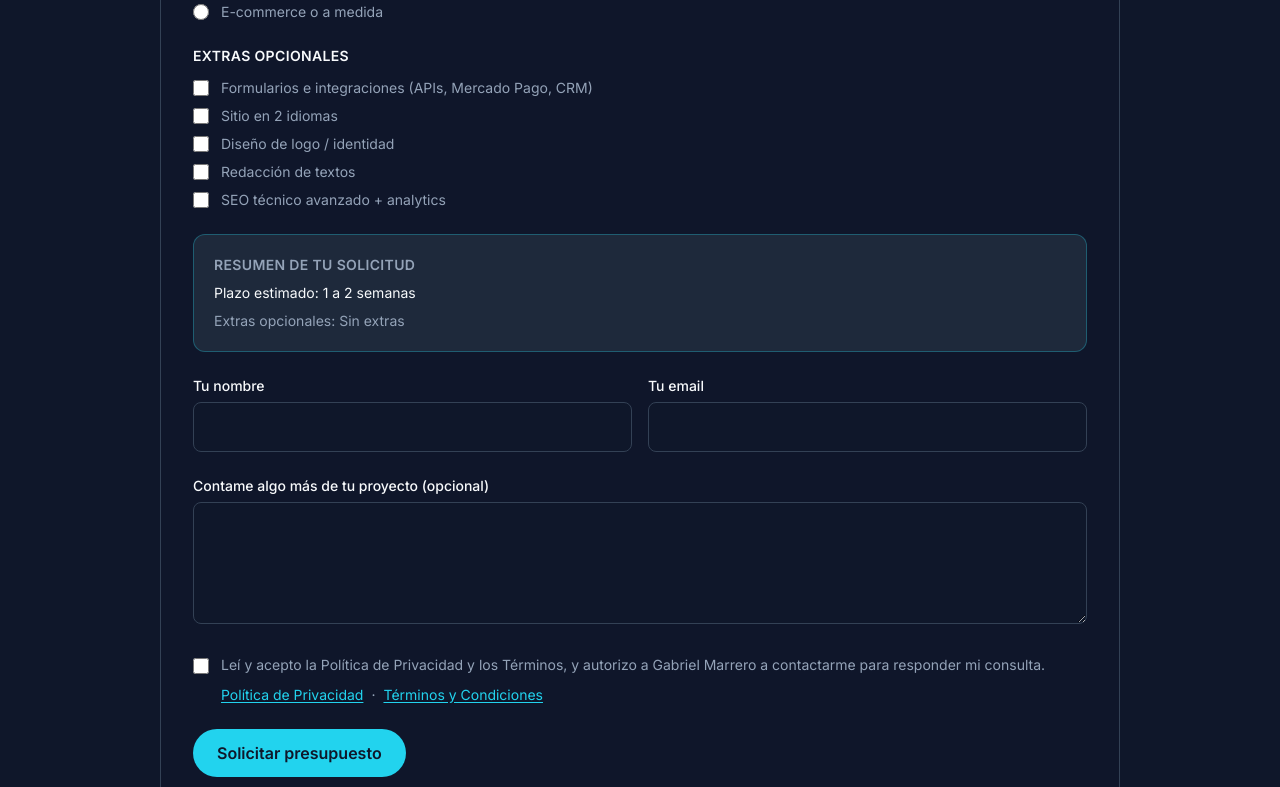
Test: Estimator › sends the quote request without any price fields
This screenshot has width=1280, height=787.
(page scrolled)
Type "Ana Pérez" into the field labelled "Tu nombre" at (412, 427), box [193,402,632,452]
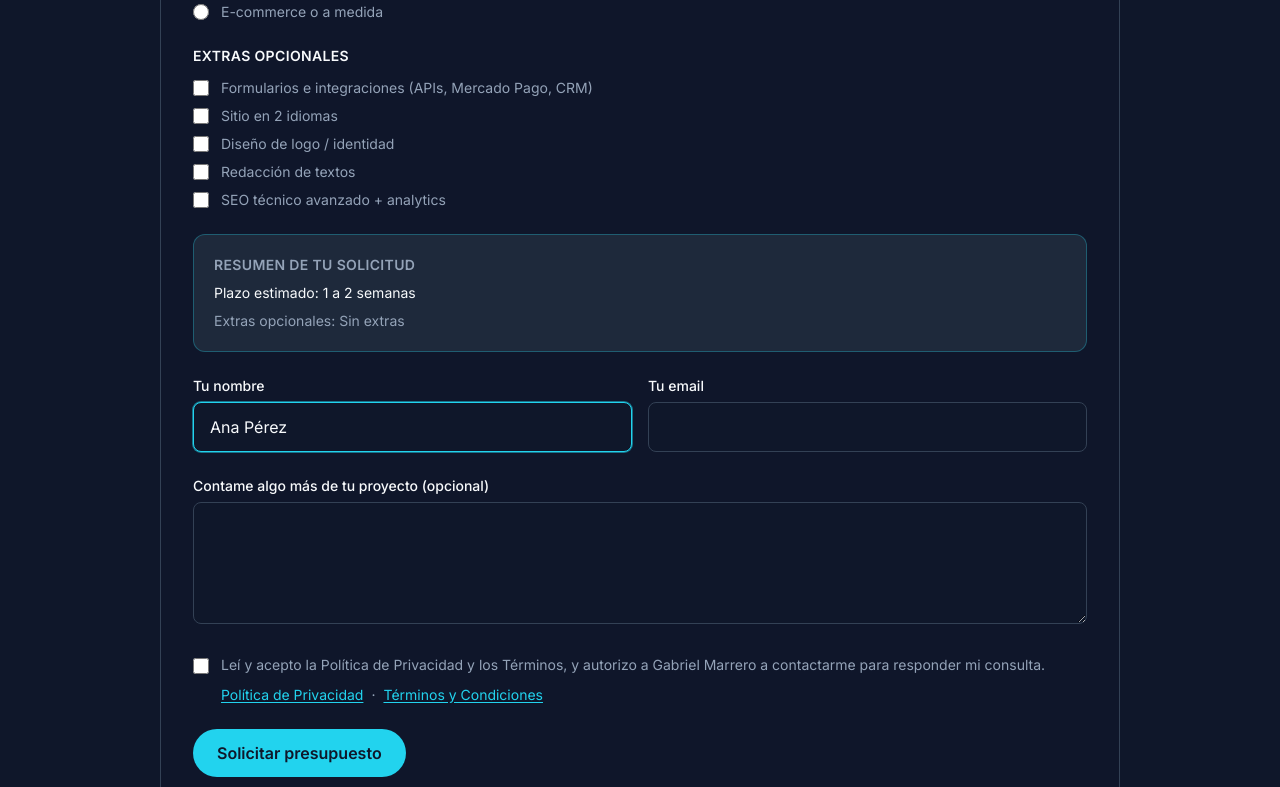
Type "ana@example.com" into the field labelled "Tu email" at (868, 427), box [648,402,1087,452]
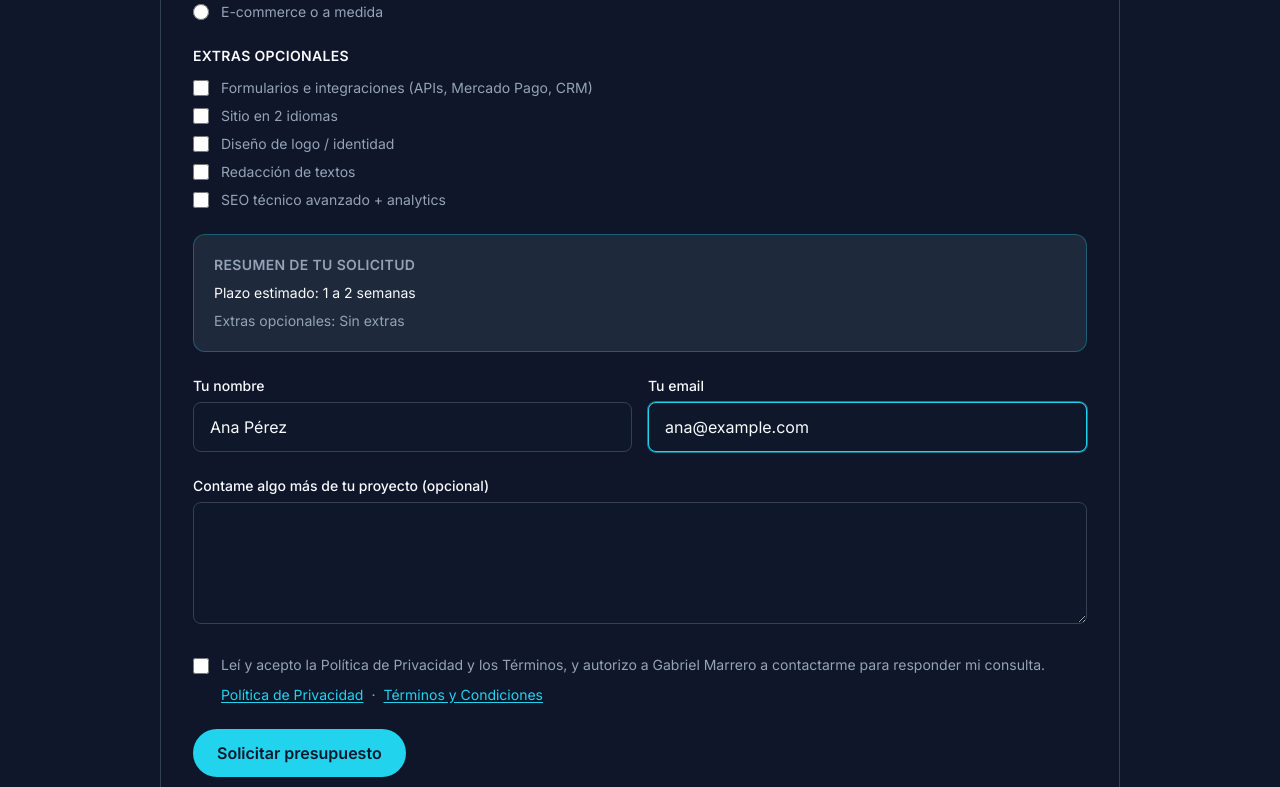
Click the checkbox labelled "Política de Privacidad" at (201, 666), box [193,658,209,674]
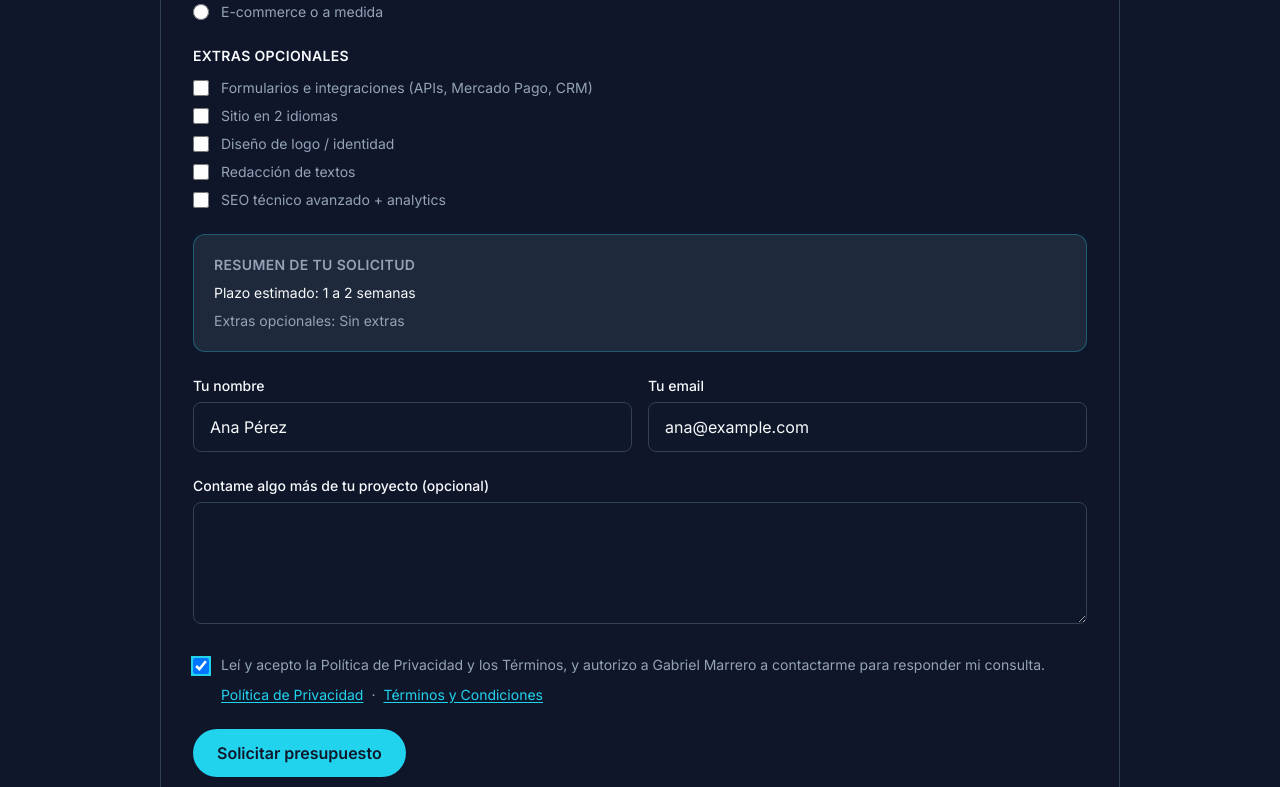
Click the button "Solicitar presupuesto" at (299, 753), box [193,729,406,777]
(page scrolled)
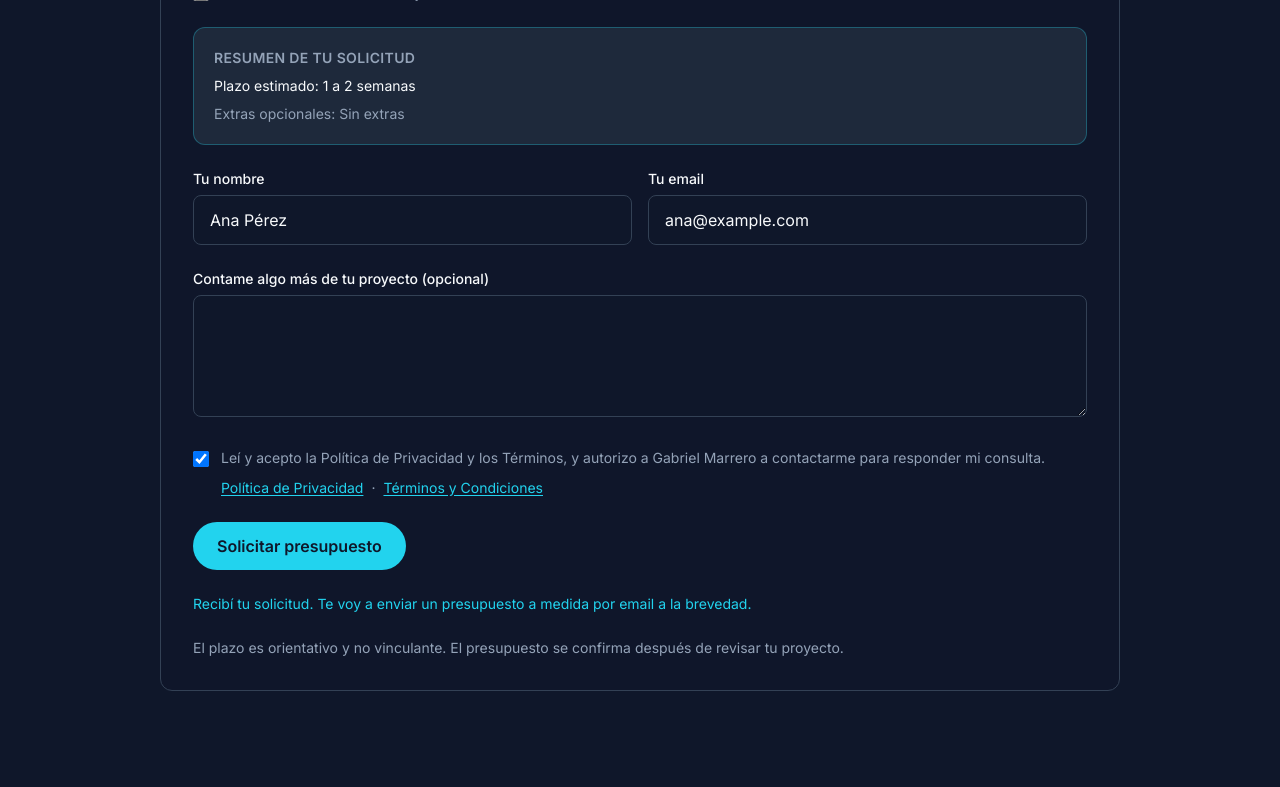
Expected: the message shows "Recibí tu solicitud. Te voy a enviar un presupuesto a medida por email a la brevedad.", [193,595,752,612]
